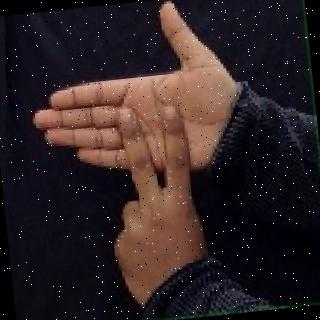N: (20, 0, 264, 299)
